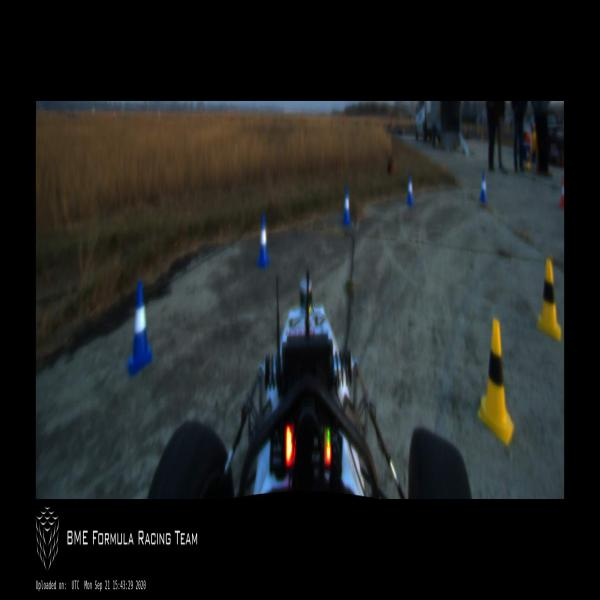blue_cone: (127, 280, 153, 376), (256, 212, 270, 268), (342, 186, 350, 225), (479, 172, 488, 202), (406, 173, 414, 206)
orange_cone: (560, 176, 564, 208)
yellow_cone: (477, 318, 514, 446), (538, 258, 562, 342)
